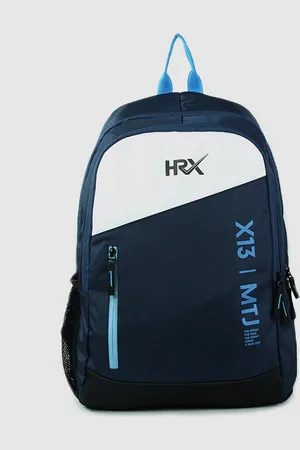backpack: (60, 33, 299, 410)
